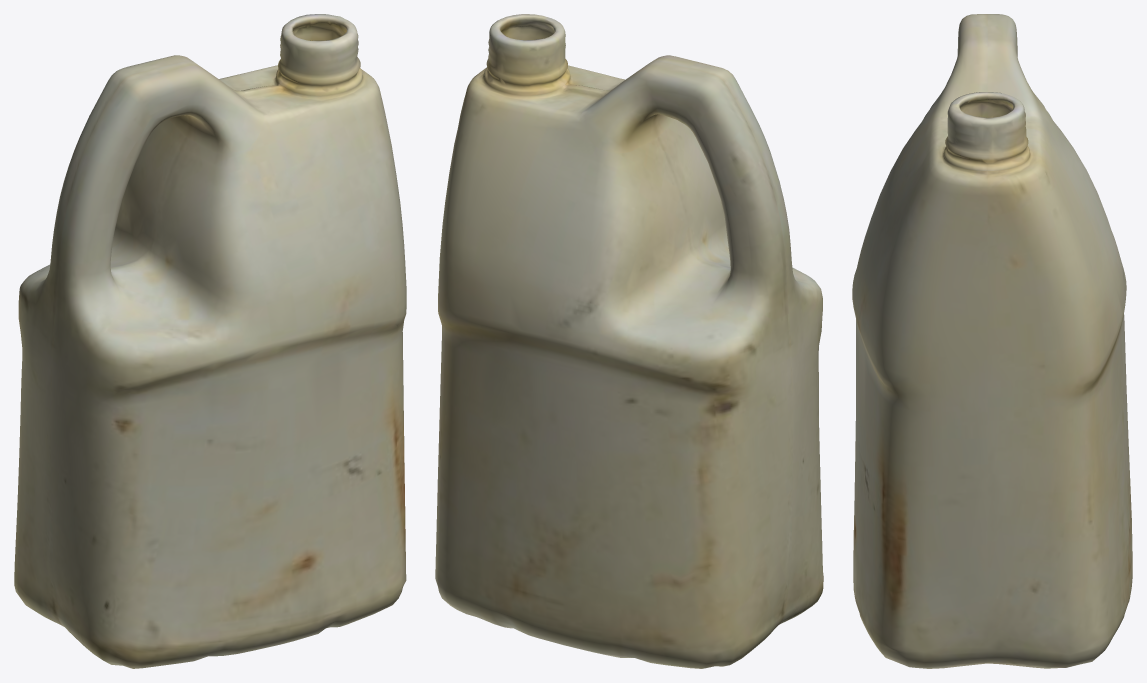
Rendered from plastic_bottle_gallon.glb.
3 renders of one model, left to right at view 1: azimuth 30°, elevation 25°; view 2: azimuth 150°, elevation 25°; view 3: azimuth 270°, elevation 25°, orthographic.
Size of the model in its own units: 0.1662 by 0.2745 by 0.1264.
Materials: 1 (1 with a texture image).
